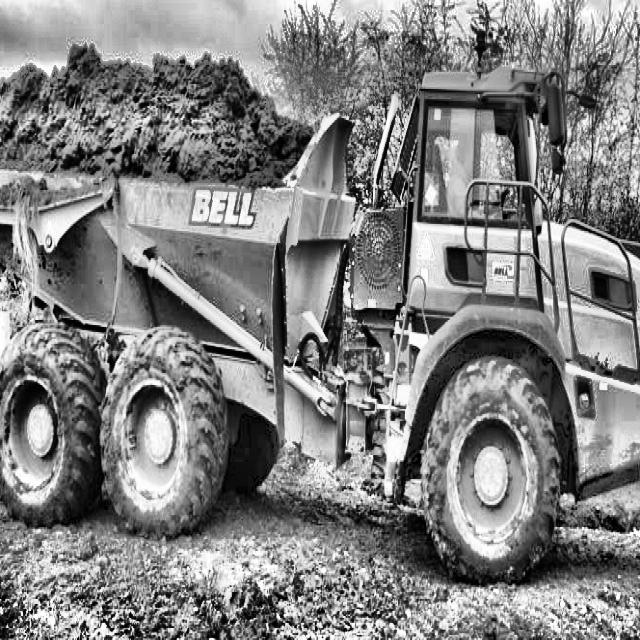dump_truck: (0, 12, 640, 628)
